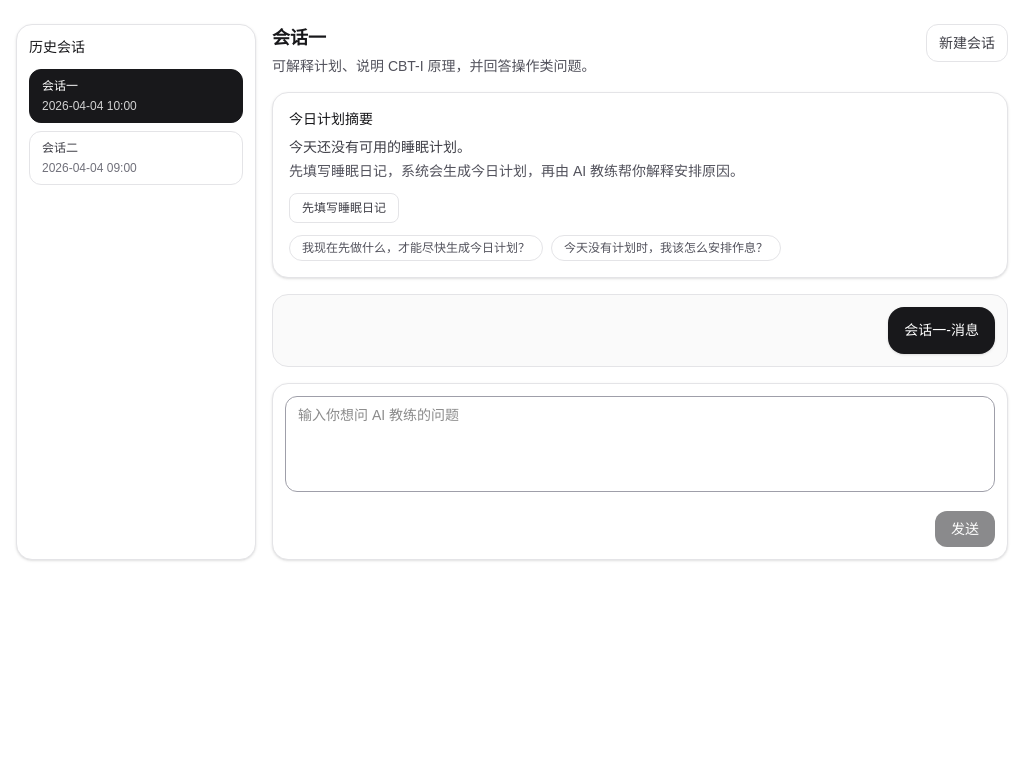
Test case: CoachShell › 当前会话发送消息后会同步更新缓存，切走再切回不会回退旧内容
This screenshot has width=1024, height=768.
Click the button with test id "coach-history-item-c2": (136, 158) top-left (29, 131), bottom-right (243, 185)
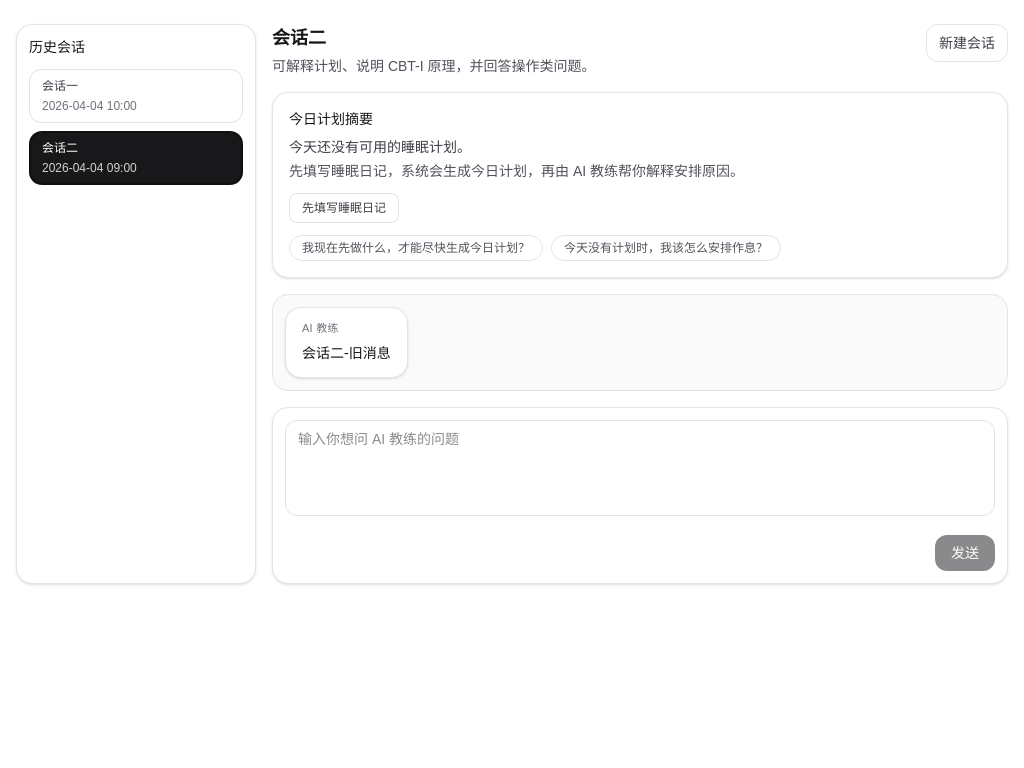
Check: the text "会话二-旧消息" is shown, box top-left (302, 342), bottom-right (391, 365)
In the text box: (640, 468) top-left (285, 420), bottom-right (995, 516), type "在 c2 发送"
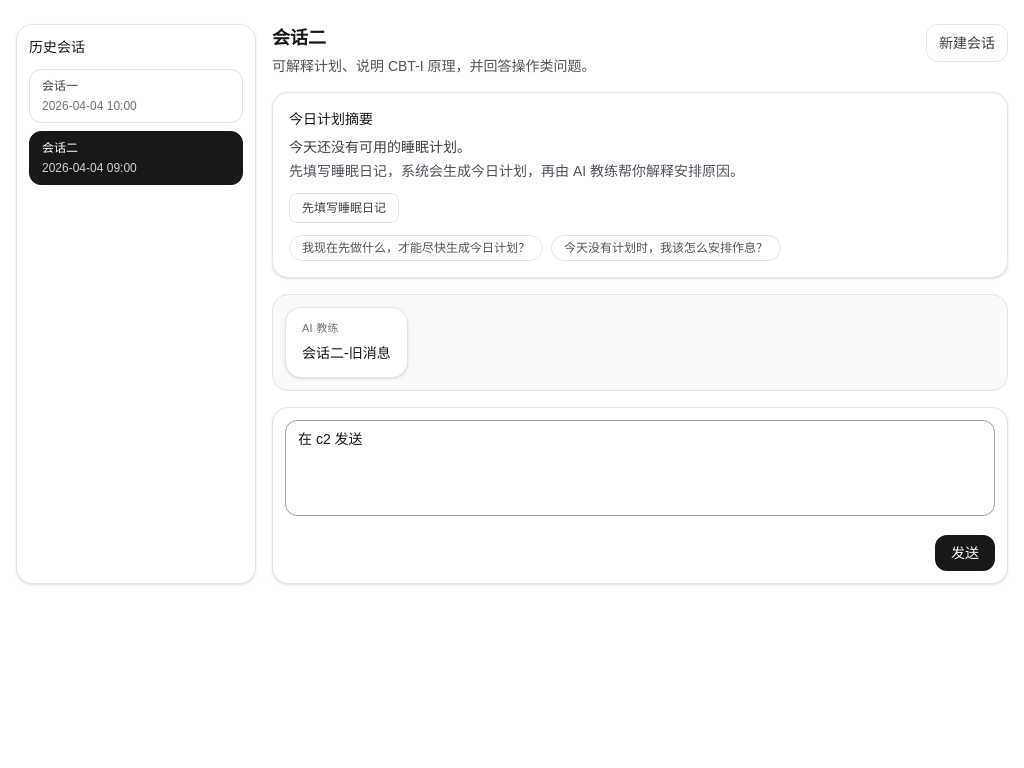
Click the button "发送": (965, 553) top-left (935, 535), bottom-right (995, 571)
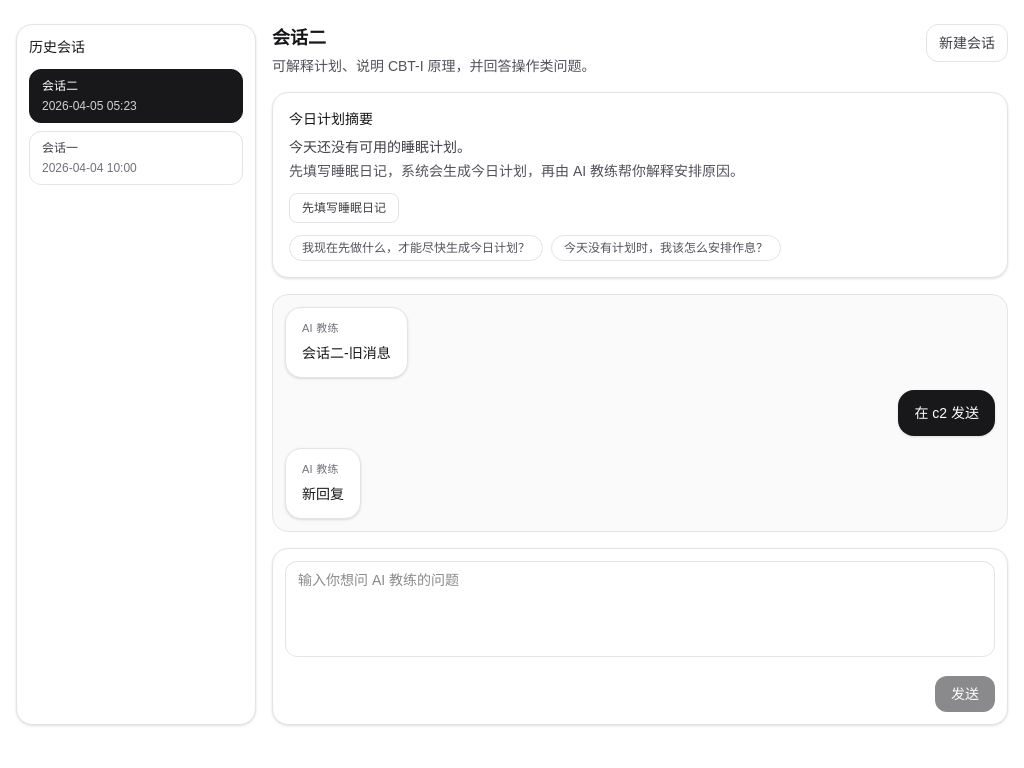
Check: the text "新回复" is shown, box top-left (302, 483), bottom-right (344, 506)
Click the button with test id "coach-history-item-c1": (136, 158) top-left (29, 131), bottom-right (243, 185)
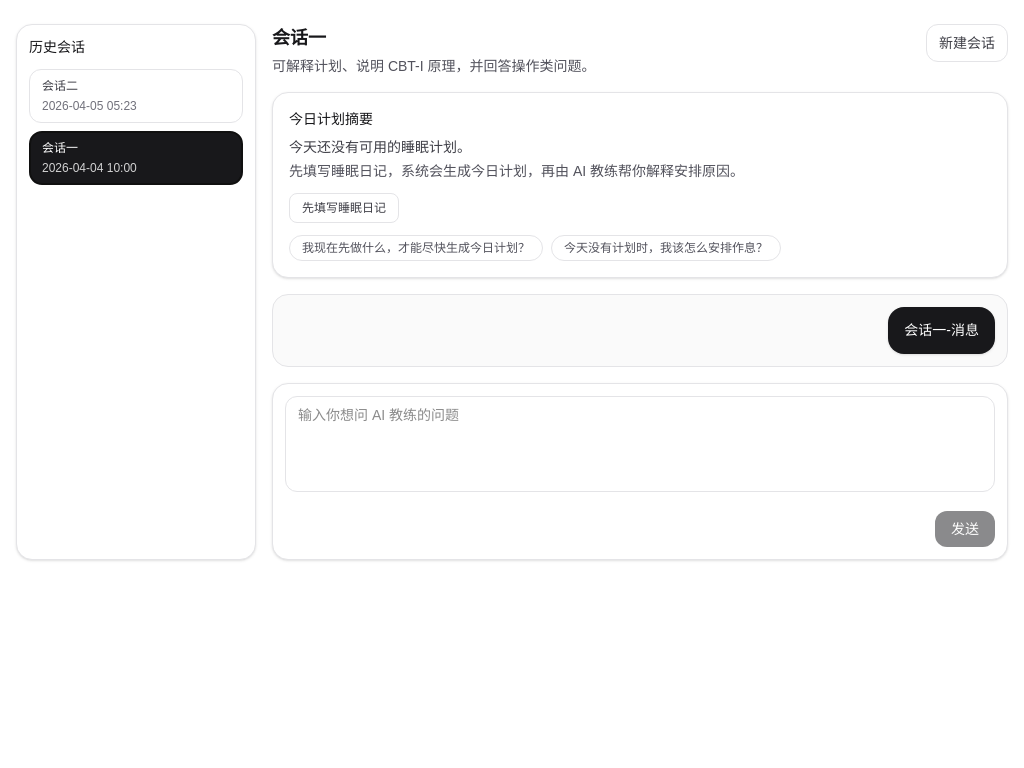
Click the button with test id "coach-history-item-c2": (136, 96) top-left (29, 69), bottom-right (243, 123)
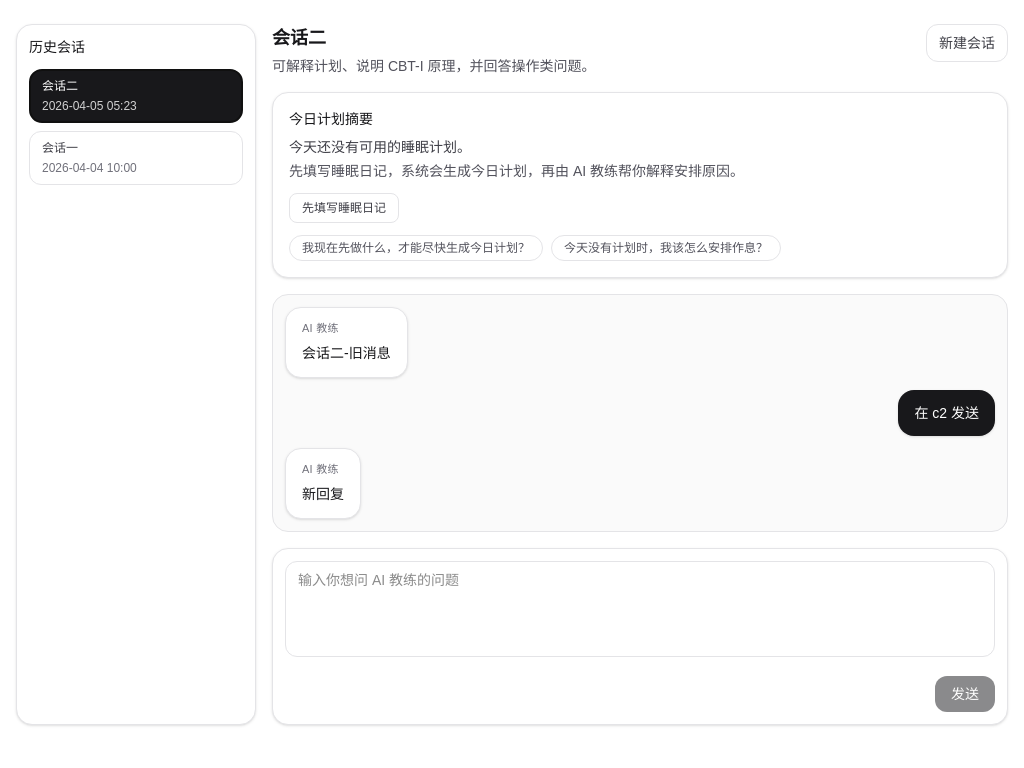
Check: the text "在 c2 发送" is shown, box top-left (914, 402), bottom-right (979, 424)
Check: the text "新回复" is shown, box top-left (302, 483), bottom-right (344, 506)
